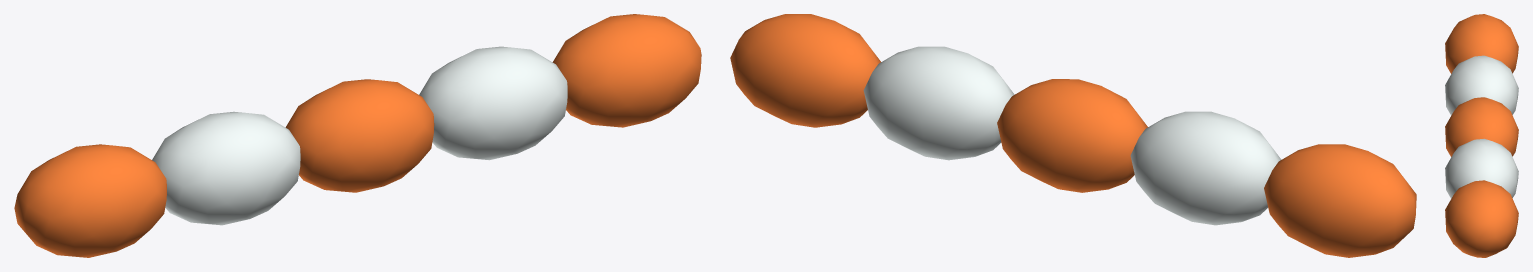
File: Floating_barrier_LOD2.glb
3 views of the same model, side by side, from view 1: azimuth 30°, elevation 25°; view 2: azimuth 150°, elevation 25°; view 3: azimuth 270°, elevation 25° (orthographic). The views are drawn at different scales.
Visible parts, largest first — view 1: Floating segment, Floating segment.004, Floating segment.001, Floating segment.003, Floating segment.002; view 2: Floating segment, Floating segment.001, Floating segment.003, Floating segment.002, Floating segment.004; view 3: Floating segment.004, Floating segment, Floating segment.002, Floating segment.001, Floating segment.003.
Boxes of the visible parts, x1,y1,x2,y2 form: Floating segment: (14,144,166,257); Floating segment.004: (552,14,701,127); Floating segment.001: (152,111,300,225); Floating segment.003: (419,46,567,160); Floating segment.002: (285,79,434,192); Floating segment: (1264,144,1416,257); Floating segment.001: (1130,111,1281,225); Floating segment.003: (863,46,1014,160); Floating segment.002: (997,79,1147,192); Floating segment.004: (730,14,880,127); Floating segment.004: (1445,180,1518,257); Floating segment: (1445,14,1518,73); Floating segment.002: (1445,97,1518,156); Floating segment.001: (1445,55,1518,115); Floating segment.003: (1445,138,1518,198).
Size of the model in its own units: 2.28 by 0.321 by 0.3374.
